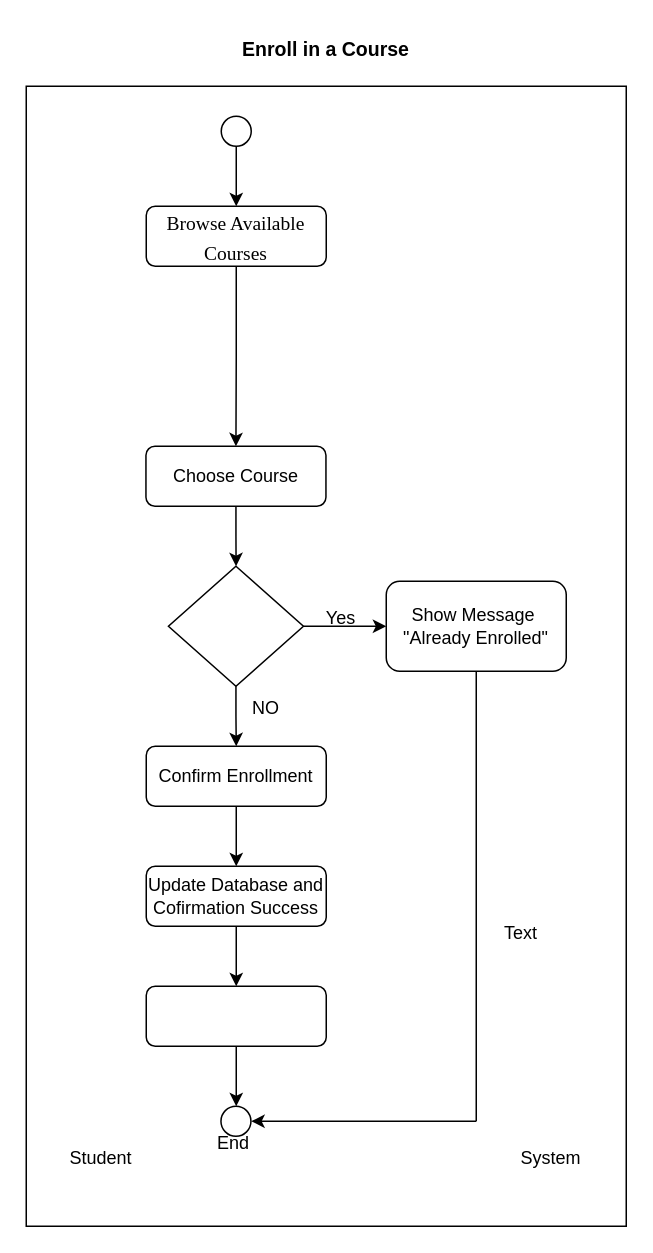
This 653x1253 diagram has some shape labels left out. Here are the shapes that lost their labels. From the top down, the box of each, then its label:
(167, 565, 303, 686): Already Enrolled?
(145, 985, 326, 1046): Display Confirmation
